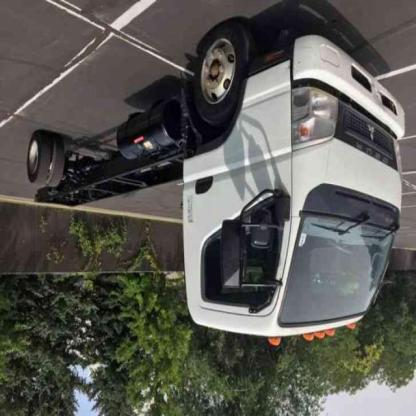truck: (27, 25, 406, 345)
